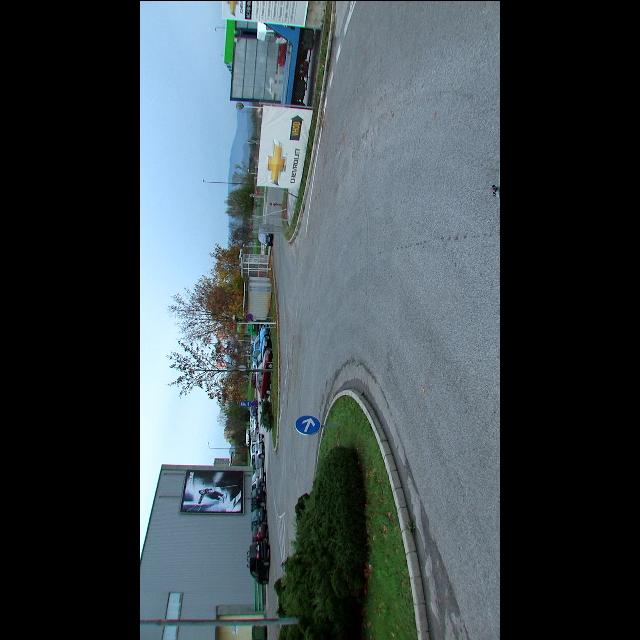Rectangle: (240, 399, 252, 405)
Round: (295, 415, 321, 433), (245, 312, 255, 320)
